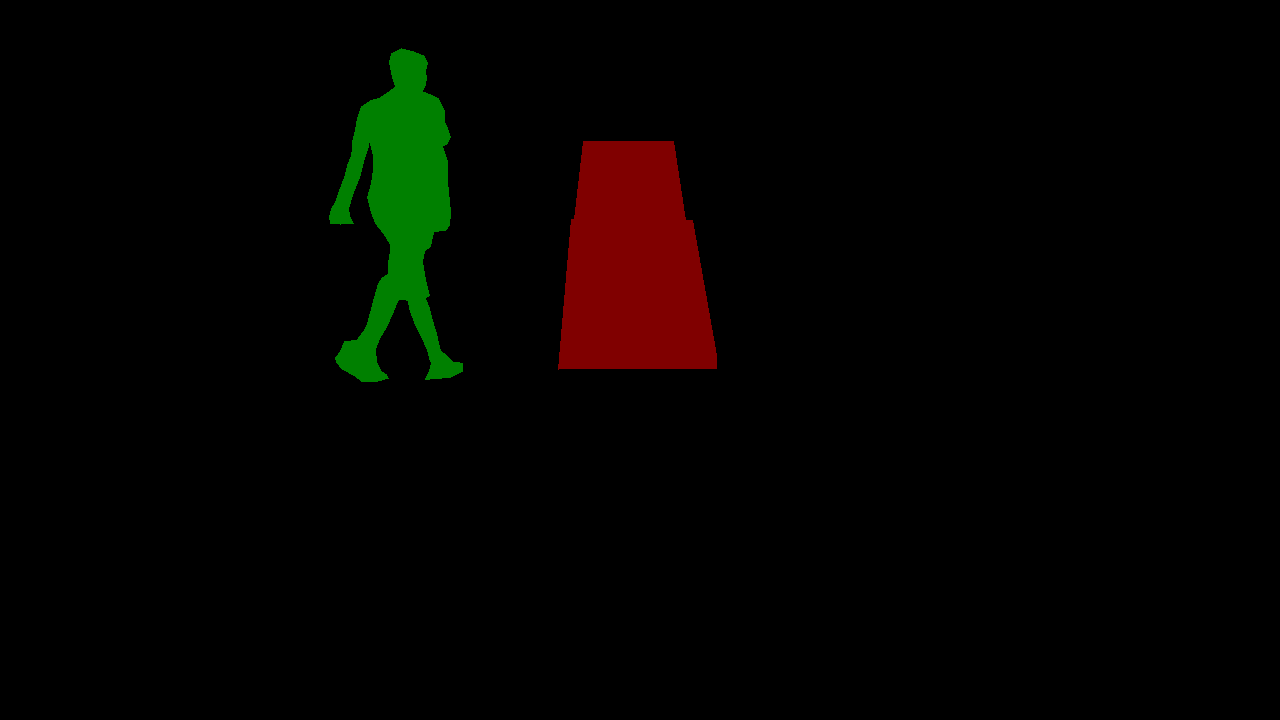person: (329, 48, 462, 381)
stair: (558, 141, 716, 369)
